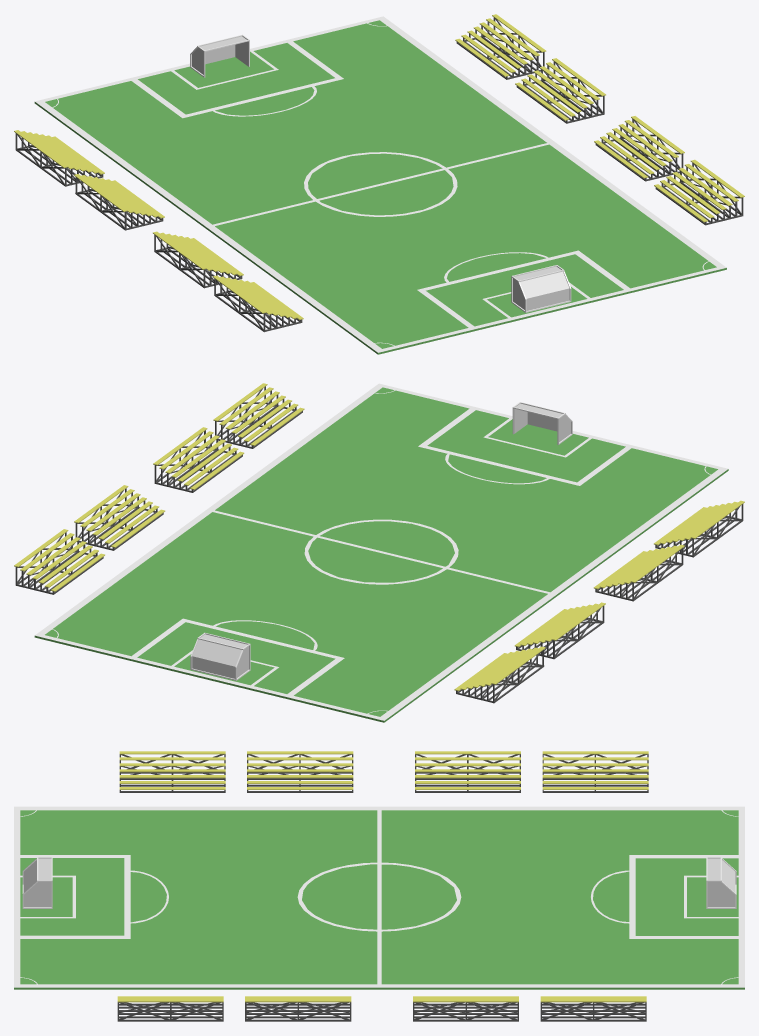
The model's file is soccer_field.glb.
The picture shows the model from 3 angles, top to bottom: view 1: azimuth 30°, elevation 25°; view 2: azimuth 150°, elevation 25°; view 3: azimuth 270°, elevation 25°; orthographic projection. The views are drawn at different scales.
Visible parts, largest first — view 1: Soccer Field, Bleachers.005, Bleachers.006, Bleachers.004, Bleachers.007, Bleachers.003, Bleachers, Bleachers.001, Bleachers.002, Soccer Goal.001, Soccer Goal; view 2: Soccer Field, Bleachers.007, Bleachers.004, Bleachers.006, Bleachers.005, Bleachers.001, Bleachers.002, Bleachers.003, Bleachers, Soccer Goal, Soccer Goal.001; view 3: Soccer Field, Bleachers, Bleachers.002, Bleachers.001, Bleachers.003, Bleachers.005, Bleachers.007, Bleachers.004, Bleachers.006, Soccer Goal, Soccer Goal.001.
Boxes of the visible parts, <box> form: Soccer Field: <box>34,16,726,354</box>; Bleachers.005: <box>654,159,744,225</box>; Bleachers.006: <box>515,58,605,123</box>; Bleachers.004: <box>594,116,684,181</box>; Bleachers.007: <box>455,14,546,79</box>; Bleachers.003: <box>74,174,164,230</box>; Bleachers: <box>212,275,303,332</box>; Bleachers.001: <box>153,231,243,288</box>; Bleachers.002: <box>14,130,104,186</box>; Soccer Goal.001: <box>511,265,571,312</box>; Soccer Goal: <box>190,34,249,77</box>; Soccer Field: <box>34,383,728,722</box>; Bleachers.007: <box>14,529,104,594</box>; Bleachers.004: <box>153,427,244,492</box>; Bleachers.006: <box>74,485,165,550</box>; Bleachers.005: <box>213,383,304,448</box>; Bleachers.001: <box>593,544,684,601</box>; Bleachers.002: <box>454,646,545,703</box>; Bleachers.003: <box>514,602,605,659</box>; Bleachers: <box>654,500,744,557</box>; Soccer Goal: <box>190,632,250,680</box>; Soccer Goal.001: <box>512,402,572,444</box>; Soccer Field: <box>14,806,744,989</box>; Bleachers: <box>119,751,225,792</box>; Bleachers.002: <box>542,751,648,792</box>; Bleachers.001: <box>247,751,353,792</box>; Bleachers.003: <box>415,751,520,792</box>; Bleachers.005: <box>117,996,223,1021</box>; Bleachers.007: <box>540,996,646,1021</box>; Bleachers.004: <box>245,996,351,1021</box>; Bleachers.006: <box>413,996,518,1021</box>; Soccer Goal: <box>706,857,736,908</box>; Soccer Goal.001: <box>22,857,52,908</box>.
Bounding box in the file's own units: 39.15 × 2.21 × 48.38.
